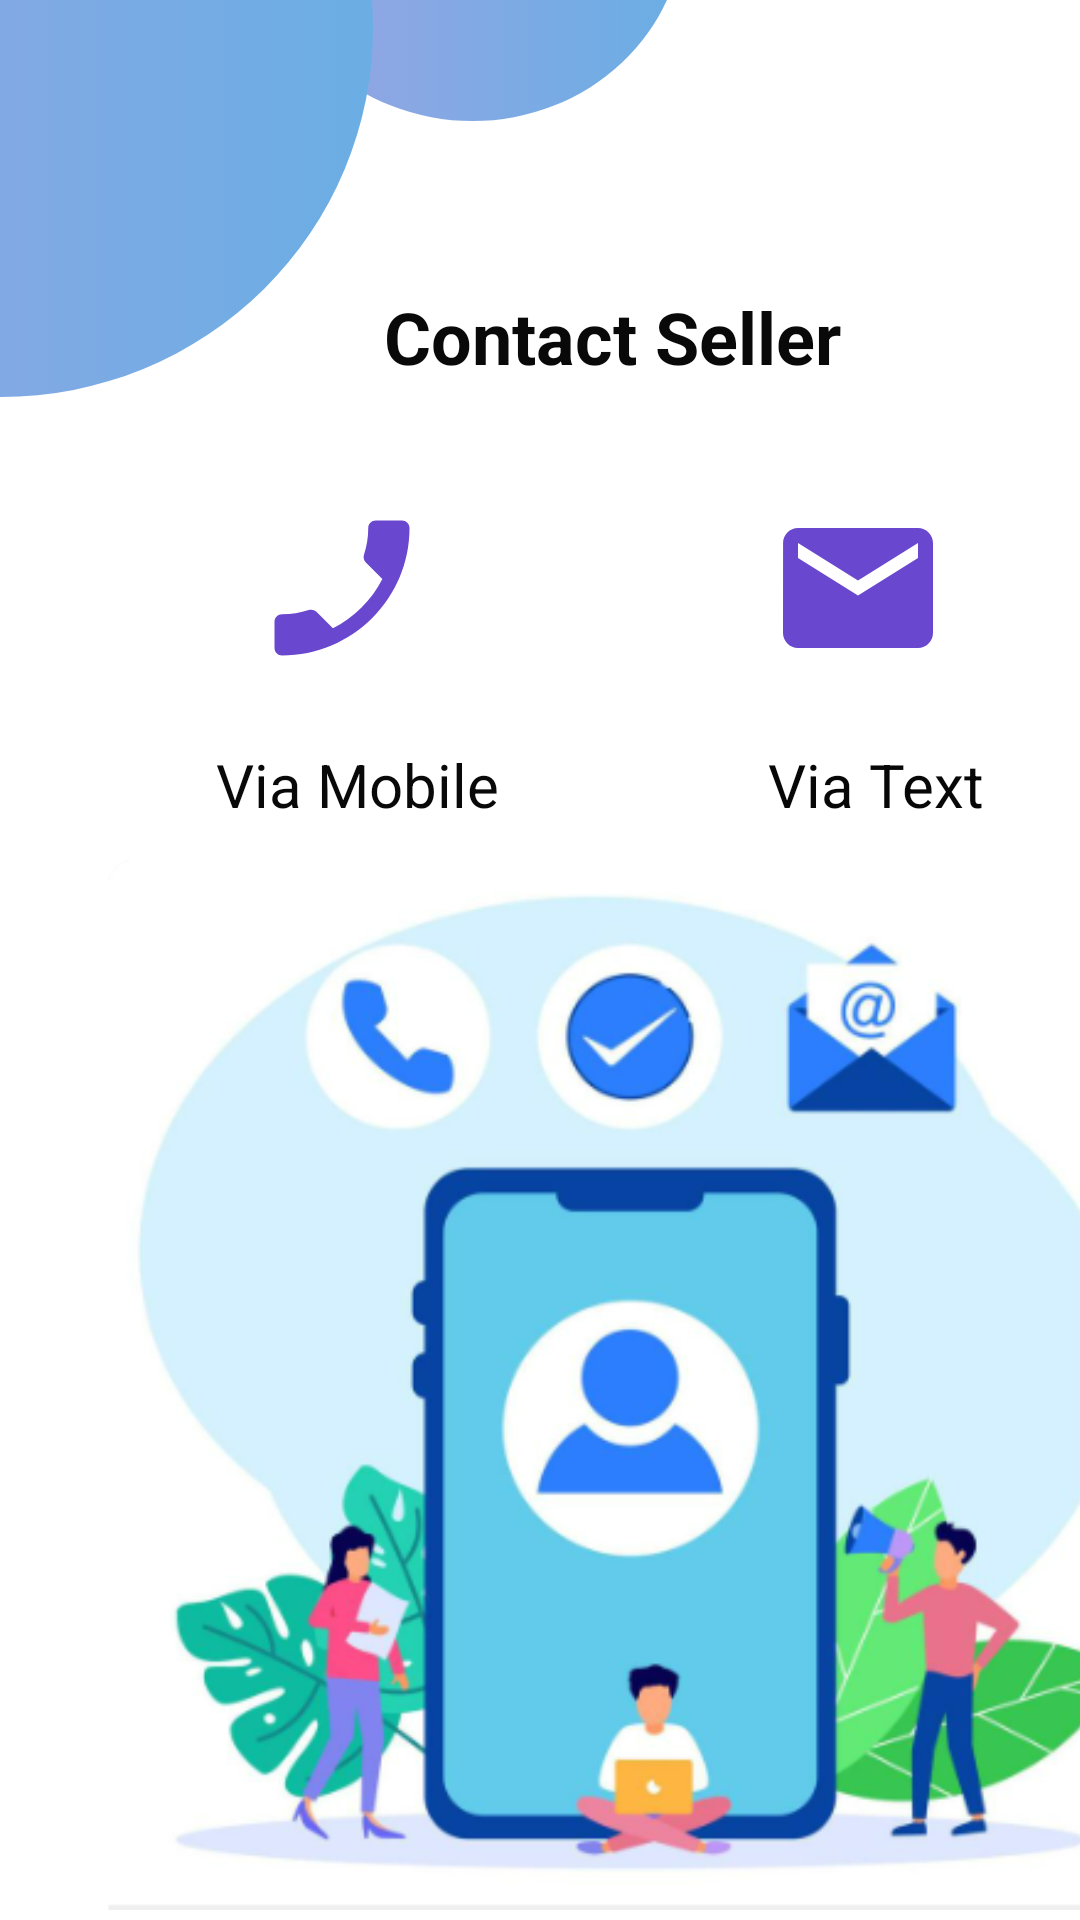

Icons on this 1080px×1920px Android screen, each with its box as (x1, y1, x2, y2):
email: (783, 528, 933, 648)
phone: (274, 520, 410, 656)
